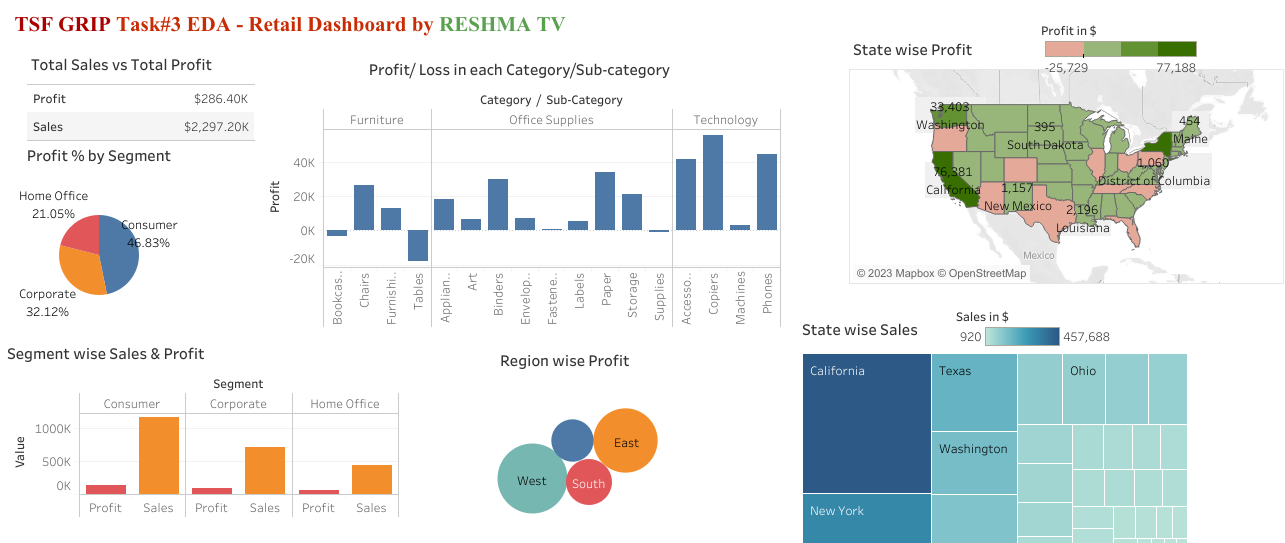

The page's visual inventory and layout, read from the dashboard file:
{"tool":"tableau","page":{"name":"Dashboard 1","canvas":[1000,1000],"units":"permille","ordinal":0},"visuals":[{"type":"title","box":[7.1,13.5,985.8,54.1]},{"type":"legend","title":"state profit","param":"[federated.1qov29h0k99k651h9623f1048skz].[sum:Profit:qk]","box":[809.7,30.4,123.9,119.9]},{"type":"worksheet","title":"state profit","mark":"Automatic","box":[660.2,59.1,338.1,462.8]},{"type":"worksheet","title":"total ","mark":"Automatic","box":[21.2,86.2,177,174]},{"type":"worksheet","title":"p&l each c/s","mark":"Bar","rows":["Profit"],"cols":["Category","Sub-Category"],"box":[200.9,96.3,406.2,506.8]},{"type":"worksheet","title":"p by seg","mark":"Pie","box":[15,253.4,212.4,366.6]},{"type":"legend","title":"state sales","param":"[federated.1qov29h0k99k651h9623f1048skz].[sum:Sales:qk]","box":[743.4,557.4,123.9,128.4]},{"type":"worksheet","title":"segmnt s&p","mark":"Automatic","cols":["Segment"],"box":[2.6,618.2,308,332.8]},{"type":"worksheet","title":"region p","mark":"Circle","box":[385.8,630.1,247.8,366.6]}]}

Visuals, with their boxes on the dashboard's canvas, which has no fixed pixel size, in thousandths of its width and height (x1, y1, x2, y2). These are canvas units, not pixel positions in the 1285x543 screenshot, which may show the page scaled, cropped or inside an application window:
title: {"x1": 7, "y1": 14, "x2": 993, "y2": 68}
"state profit" legend: {"x1": 810, "y1": 30, "x2": 934, "y2": 150}
"state profit" worksheet: {"x1": 660, "y1": 59, "x2": 998, "y2": 522}
"total " worksheet: {"x1": 21, "y1": 86, "x2": 198, "y2": 260}
"p&l each c/s" worksheet (Bar marks): {"x1": 201, "y1": 96, "x2": 607, "y2": 603}
"p by seg" worksheet (Pie marks): {"x1": 15, "y1": 253, "x2": 227, "y2": 620}
"state sales" legend: {"x1": 743, "y1": 557, "x2": 867, "y2": 686}
"segmnt s&p" worksheet: {"x1": 3, "y1": 618, "x2": 311, "y2": 951}
"region p" worksheet (Circle marks): {"x1": 386, "y1": 630, "x2": 634, "y2": 997}
